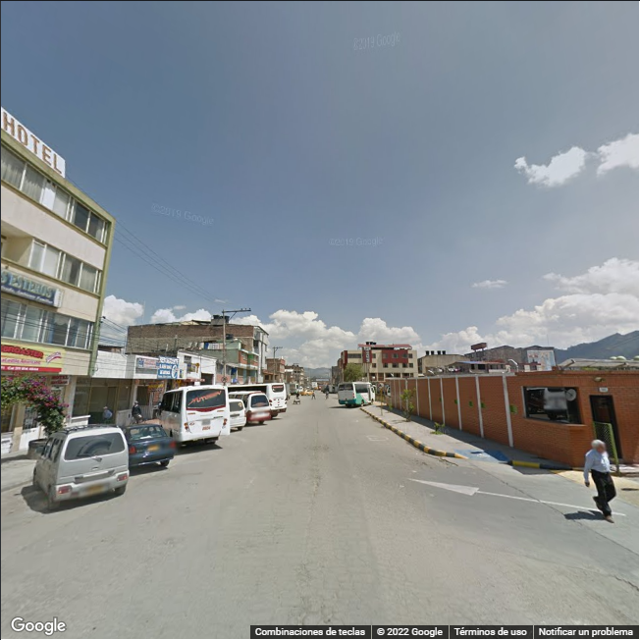D00: (300, 488, 320, 554)
D20: (283, 566, 485, 622)
